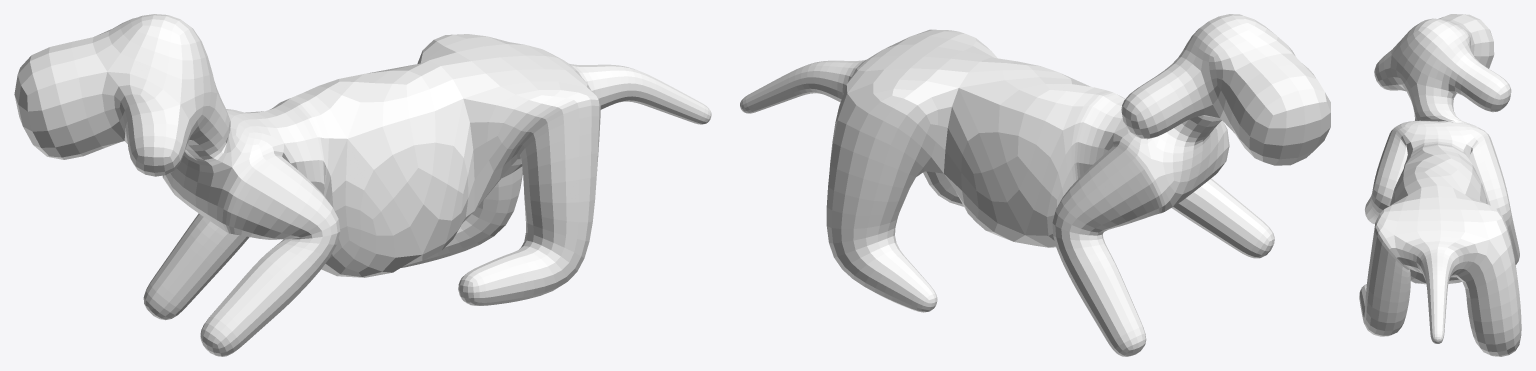
File: thedisruptivedoginquestion.fbx
3 renders of one model, left to right at view 1: azimuth 30°, elevation 25°; view 2: azimuth 150°, elevation 25°; view 3: azimuth 270°, elevation 25°, orthographic. The views are drawn at different scales.
Visible parts, largest first — view 1: Cube; view 2: Cube; view 3: Cube.
Boxes of the visible parts, left/top/right/bottom form: Cube: left=14, top=14, right=711, bottom=356; Cube: left=740, top=14, right=1330, bottom=356; Cube: left=1359, top=14, right=1521, bottom=356.
Bounding box in the file's own units: 603 × 309 × 197.
Materials: 1 (1 with a texture image).
